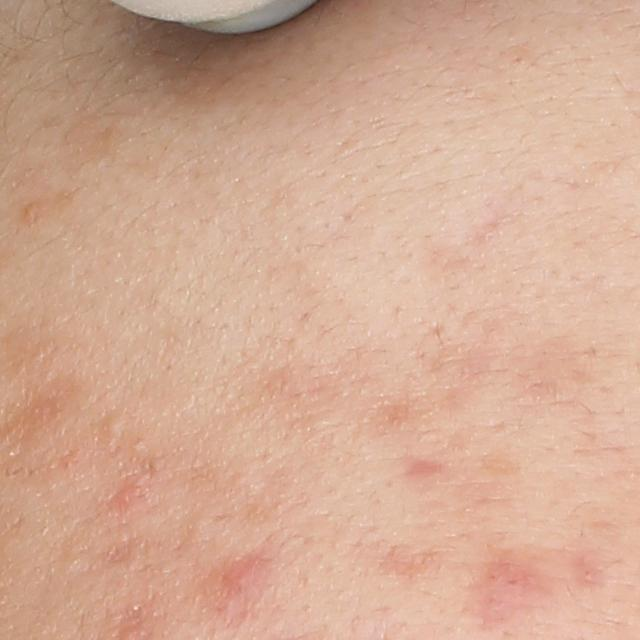comedo: (100, 412, 127, 441)
papule: (108, 484, 147, 511)
